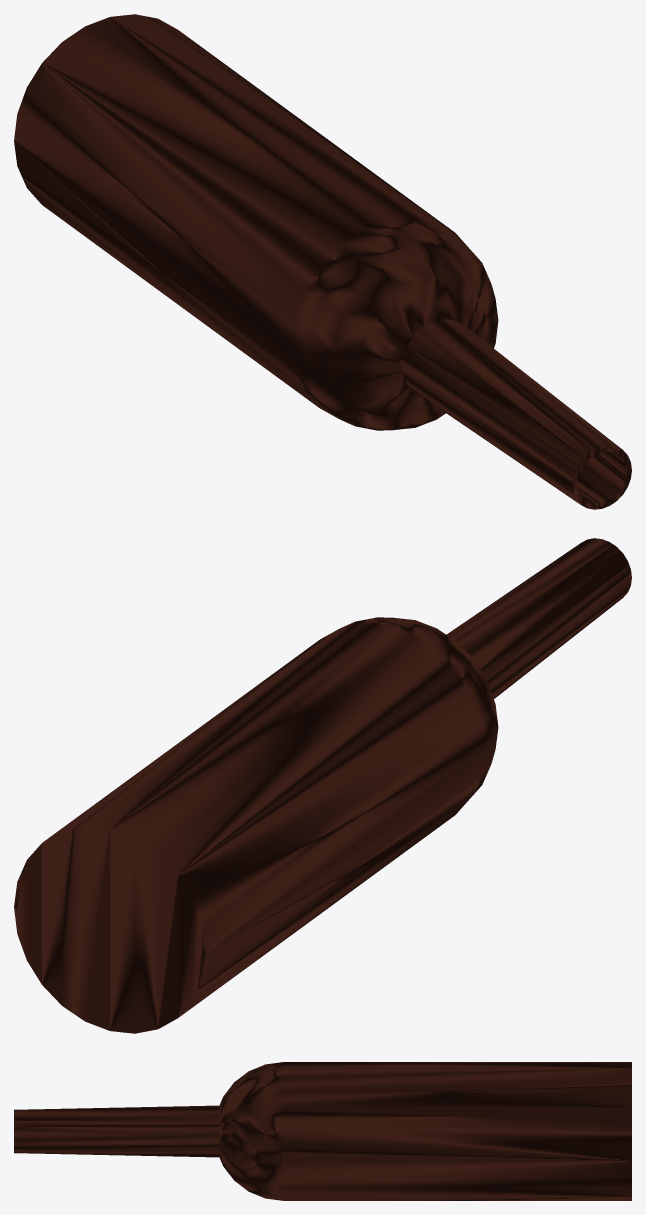
Rendered from model_align.obj.
3 renders of one model, top to bottom at view 1: azimuth 30°, elevation 25°; view 2: azimuth 150°, elevation 25°; view 3: azimuth 270°, elevation 25°, orthographic. The views are drawn at different scales.
Size of the model in its own units: 0.056 by 0.056 by 0.2483.
